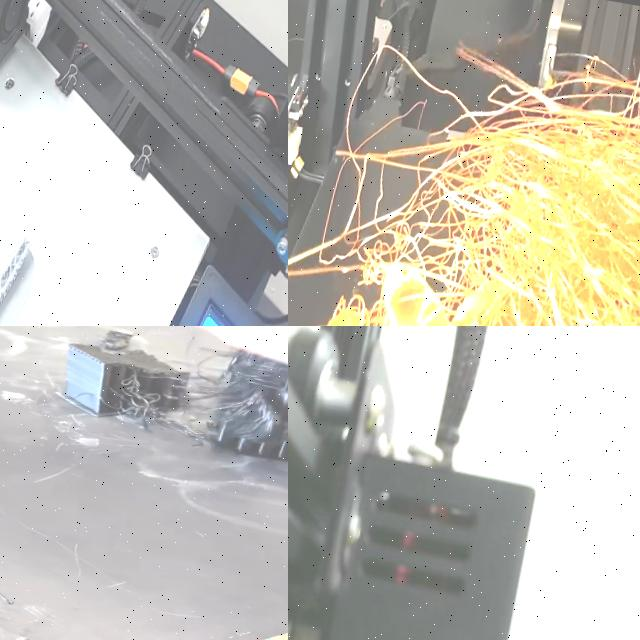spaghetti: (288, 0, 640, 326), (141, 326, 288, 469)
